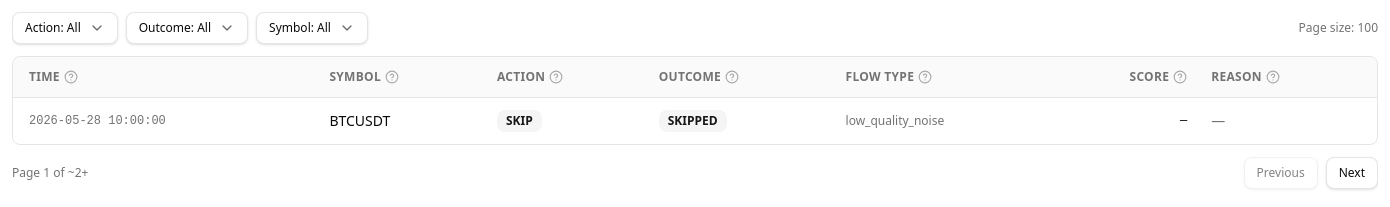
it: DecisionsFeed — pagination controls › clicking Next advances the page indicator to Page 2
Click the button "Next" at (1352, 173), box [1326,157,1378,189]
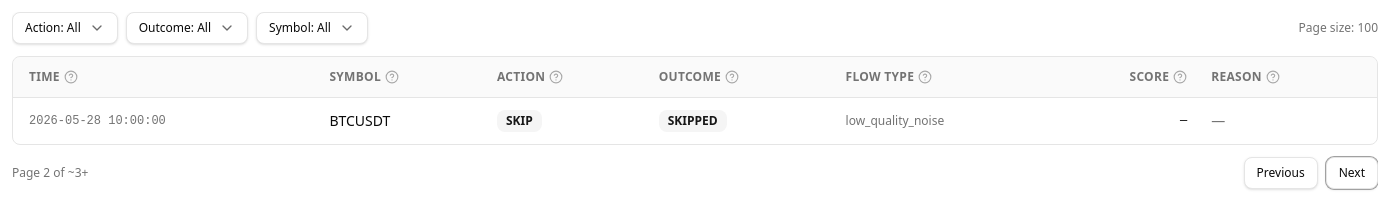
Expected: the text "Page 2 of ~3+" is shown, [12,165,88,181]
